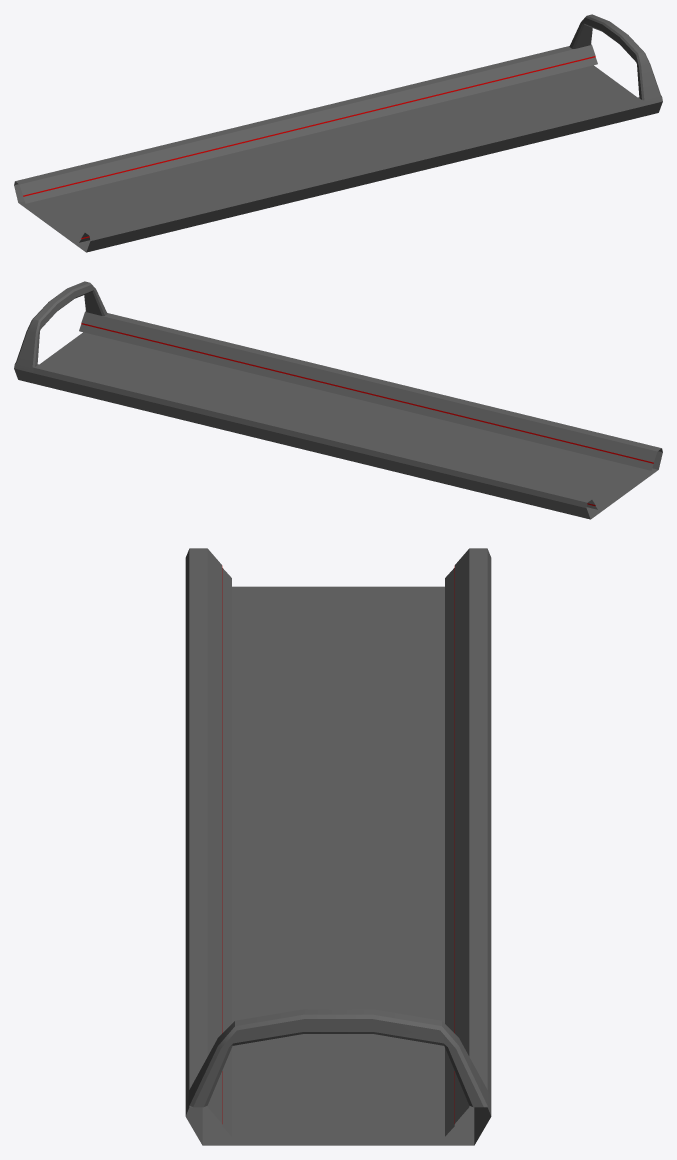
Rendered from startWall.fbx.
3 views of the same model, one above another, from view 1: azimuth 30°, elevation 25°; view 2: azimuth 150°, elevation 25°; view 3: azimuth 270°, elevation 25° (orthographic). The views are drawn at different scales.
Visible parts, largest first — view 1: startWall; view 2: startWall; view 3: startWall.
Part boxes in pixels (<box>): startWall: <box>14,14,662,252</box>; startWall: <box>14,281,662,519</box>; startWall: <box>185,548,491,1145</box>.
Bounding box in the file's own units: 0.7504 × 0.0779 × 0.1735.
